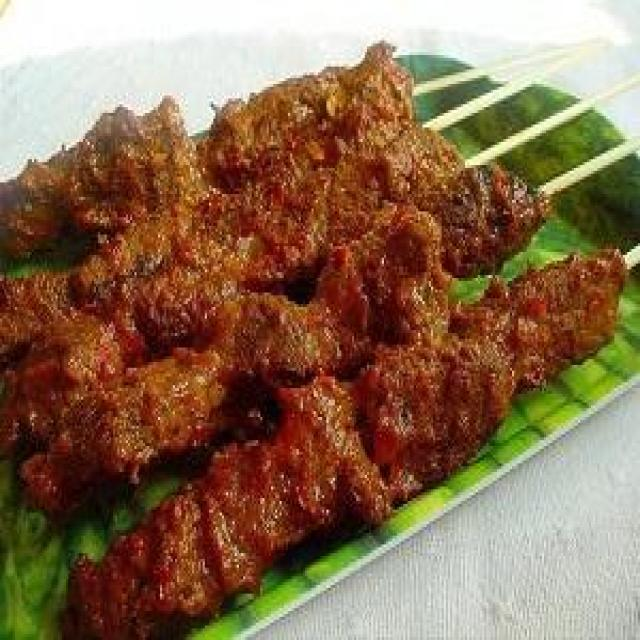Sate: (33, 14, 609, 567)
